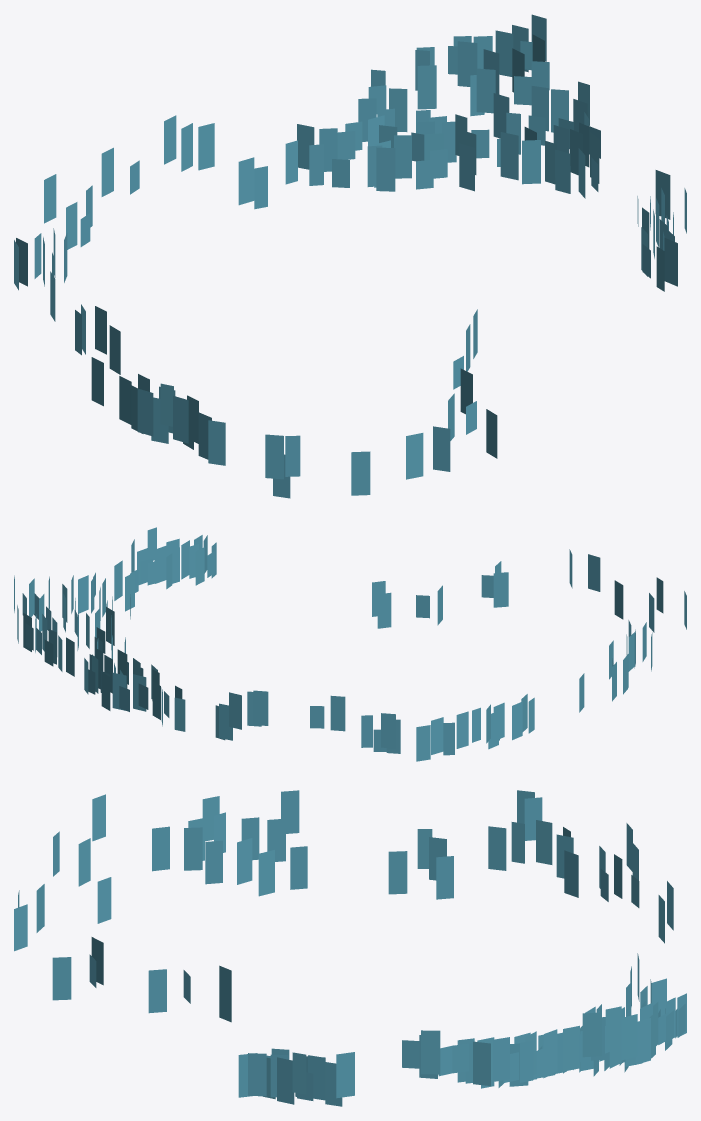
Rendered from cluster_1.fbx.
3 views of the same model, one above another, from view 1: azimuth 30°, elevation 25°; view 2: azimuth 150°, elevation 25°; view 3: azimuth 270°, elevation 25° (orthographic). The views are drawn at different scales.
Parts seen in each view (by area): view 1: cluster_1; view 2: cluster_1; view 3: cluster_1.
Part boxes in pixels (x1=…): cluster_1: x1=14, y1=14, x2=686, y2=498; cluster_1: x1=14, y1=527, x2=686, y2=761; cluster_1: x1=14, y1=790, x2=686, y2=1106.
Bounding box in the file's own units: 2280616 × 585433 × 2219808.
